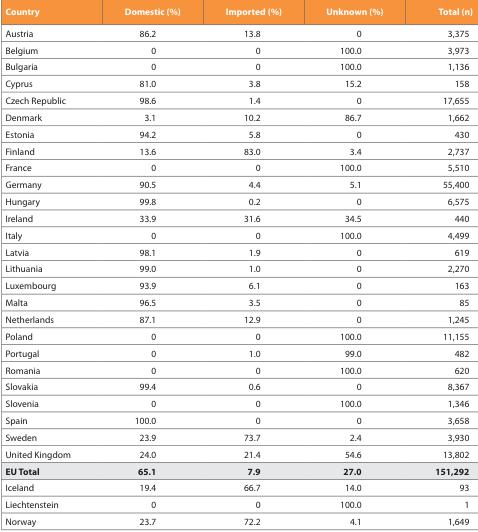table: (4, 4, 472, 526)
table column: (96, 4, 202, 526), (303, 4, 408, 526), (202, 4, 303, 526), (4, 4, 96, 526), (408, 4, 472, 526)
table column header: (4, 4, 472, 21)
table row: (4, 21, 472, 40), (4, 4, 472, 21), (4, 40, 472, 57), (4, 57, 472, 74), (4, 74, 472, 91), (4, 91, 472, 108), (4, 108, 472, 125), (4, 141, 472, 158), (4, 158, 472, 175), (4, 175, 472, 192), (4, 192, 472, 209), (4, 209, 472, 226), (4, 242, 472, 259), (4, 259, 472, 276), (4, 276, 472, 293), (4, 293, 472, 310), (4, 310, 472, 327), (4, 343, 472, 360), (4, 360, 472, 377), (4, 377, 472, 394), (4, 394, 472, 411), (4, 411, 472, 428), (4, 444, 472, 461), (4, 461, 472, 478), (4, 478, 472, 495), (4, 495, 472, 512), (4, 125, 472, 141), (4, 226, 472, 242), (4, 327, 472, 343), (4, 428, 472, 444), (4, 512, 472, 526)
